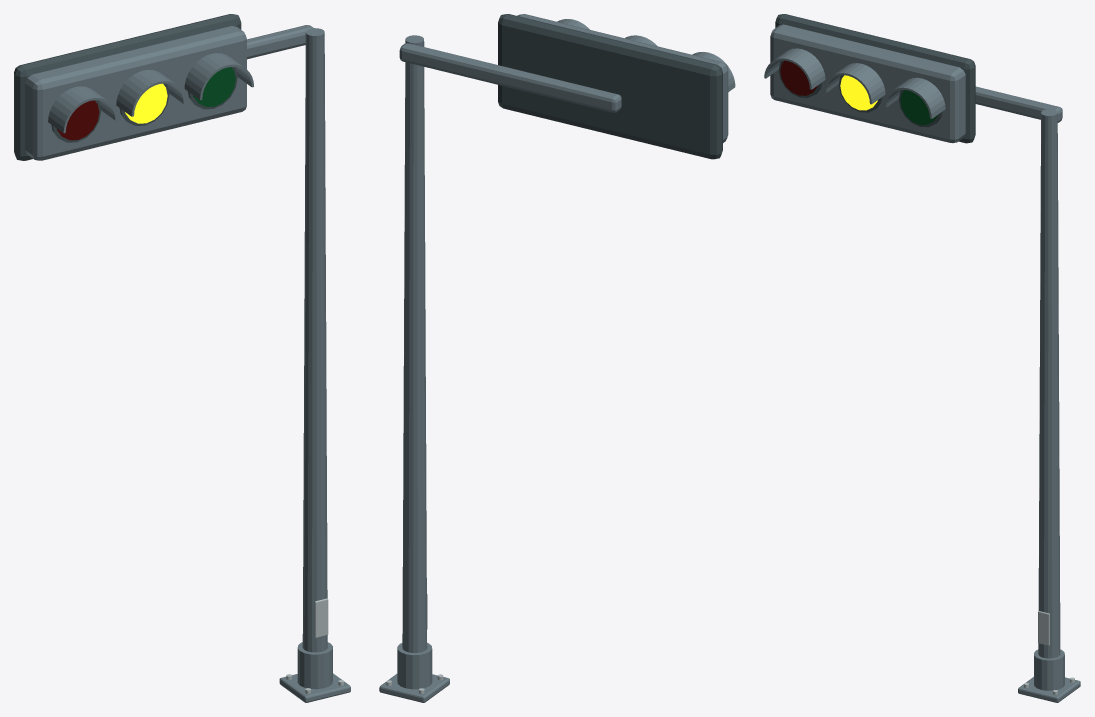
Rendered from SIMUS_Traffic_Light_Amber.glb.
3 renders of one model, left to right at view 1: azimuth 30°, elevation 25°; view 2: azimuth 150°, elevation 25°; view 3: azimuth 330°, elevation 25°, orthographic. The views are drawn at different scales.
Visible parts, largest first — view 1: Signal pole, Signal housing, Signal backplate, Visor Red, Visor Amber, Pole foot, Visor Green, Signal arm, Lens Green, Lens Red, Lens Amber, Mounting plate (+1 smaller); view 2: Signal backplate, Signal pole, Signal arm, Pole foot, Signal housing, Mounting plate; view 3: Signal pole, Signal housing, Signal backplate, Signal arm, Visor Amber, Visor Red, Visor Green, Pole foot, Lens Green, Lens Red, Lens Amber, Mounting plate.
Boxes of the visible parts, left/top/right/bottom form: Signal pole: left=302, top=28, right=327, bottom=652; Signal housing: left=25, top=26, right=246, bottom=160; Signal backplate: left=14, top=14, right=241, bottom=160; Visor Red: left=48, top=86, right=117, bottom=133; Visor Amber: left=116, top=69, right=185, bottom=116; Pole foot: left=297, top=642, right=332, bottom=689; Visor Green: left=184, top=53, right=253, bottom=99; Signal arm: left=247, top=25, right=313, bottom=59; Lens Green: left=193, top=67, right=235, bottom=106; Lens Red: left=57, top=100, right=99, bottom=140; Lens Amber: left=125, top=83, right=167, bottom=123; Mounting plate: left=279, top=673, right=350, bottom=702; Signal backplate: left=498, top=14, right=722, bottom=159; Signal pole: left=402, top=35, right=427, bottom=652; Signal arm: left=399, top=43, right=621, bottom=112; Pole foot: left=397, top=642, right=432, bottom=689; Signal housing: left=517, top=14, right=728, bottom=142; Mounting plate: left=379, top=674, right=449, bottom=702; Signal pole: left=1038, top=109, right=1060, bottom=658; Signal housing: left=770, top=24, right=965, bottom=143; Signal backplate: left=775, top=14, right=975, bottom=143; Signal arm: left=975, top=86, right=1062, bottom=122; Visor Amber: left=824, top=63, right=885, bottom=104; Visor Red: left=764, top=48, right=825, bottom=89; Visor Green: left=884, top=77, right=945, bottom=118; Pole foot: left=1034, top=649, right=1064, bottom=690; Lens Green: left=900, top=90, right=937, bottom=124; Lens Red: left=780, top=60, right=817, bottom=95; Lens Amber: left=840, top=75, right=877, bottom=110; Mounting plate: left=1018, top=677, right=1080, bottom=702.
Bounding box in the file's own units: 2.98 × 6.07 × 0.78.
